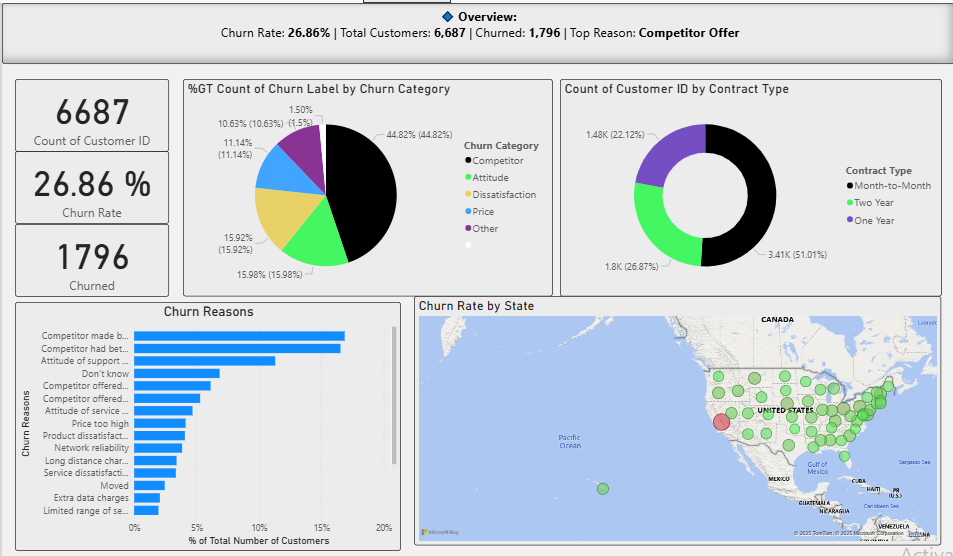

What the dashboard file says about the page in this screenshot:
{"tool":"powerbi","page":{"name":"Overview","canvas":[1640,960],"ordinal":0},"visuals":[{"type":"card","fields":{"Values":["Databel - Data.Churn Rate"]},"box":[23,255.4,265,124.8],"z":0},{"type":"card","fields":{"Values":["Count(Databel - Data.Customer ID)"]},"box":[23,130.6,265,124.8],"z":1000},{"type":"card","fields":{"Values":["Sum(Databel - Data.Churned)"]},"box":[23,380.2,265,124.8],"z":2000},{"type":"clusteredBarChart","title":"Churn Reasons","fields":{"Category":["Databel - Data.Churn Reason"],"Y":["CountNonNull(Databel - Data.Number of Customers in Group)"]},"box":[23,514.6,664.3,428.2],"z":3000},{"type":"donutChart","fields":{"Y":["Count(Databel - Data.Customer ID)"],"Category":["Databel - Data.Contract Type"]},"box":[960,130.6,656.6,374.4],"z":4000},{"type":"pieChart","fields":{"Category":["Databel - Data.Churn Category"],"Y":["CountNonNull(Databel - Data.Churn Label)"]},"box":[311,130.6,635.5,374.4],"z":5000},{"type":"map","fields":{"Category":["Databel - Data.State"],"Size":["Databel - Data.Churn Rate"]},"box":[708.7,504.6,907.1,429],"z":6000},{"type":"textbox","box":[0,0,1639.6,104.9],"z":7000}]}

Visuals, with their boxes in screenshot pixels (x1, y1, x2, y2), scaled from the page's 1640x960 canvas onto the 953x556 screenshot:
card - Databel - Data.Churn Rate: <region>13, 148, 167, 220</region>
card - Count(Databel - Data.Customer ID): <region>13, 76, 167, 148</region>
card - Sum(Databel - Data.Churned): <region>13, 220, 167, 292</region>
"Churn Reasons" clusteredBarChart: <region>13, 298, 399, 546</region>
donutChart - Count(Databel - Data.Customer ID) x Databel - Data.Contract Type: <region>558, 76, 939, 292</region>
pieChart - Databel - Data.Churn Category x CountNonNull(Databel - Data.Churn Label): <region>181, 76, 550, 292</region>
map - Databel - Data.State x Databel - Data.Churn Rate: <region>412, 292, 939, 541</region>
textbox: <region>0, 0, 952, 61</region>
